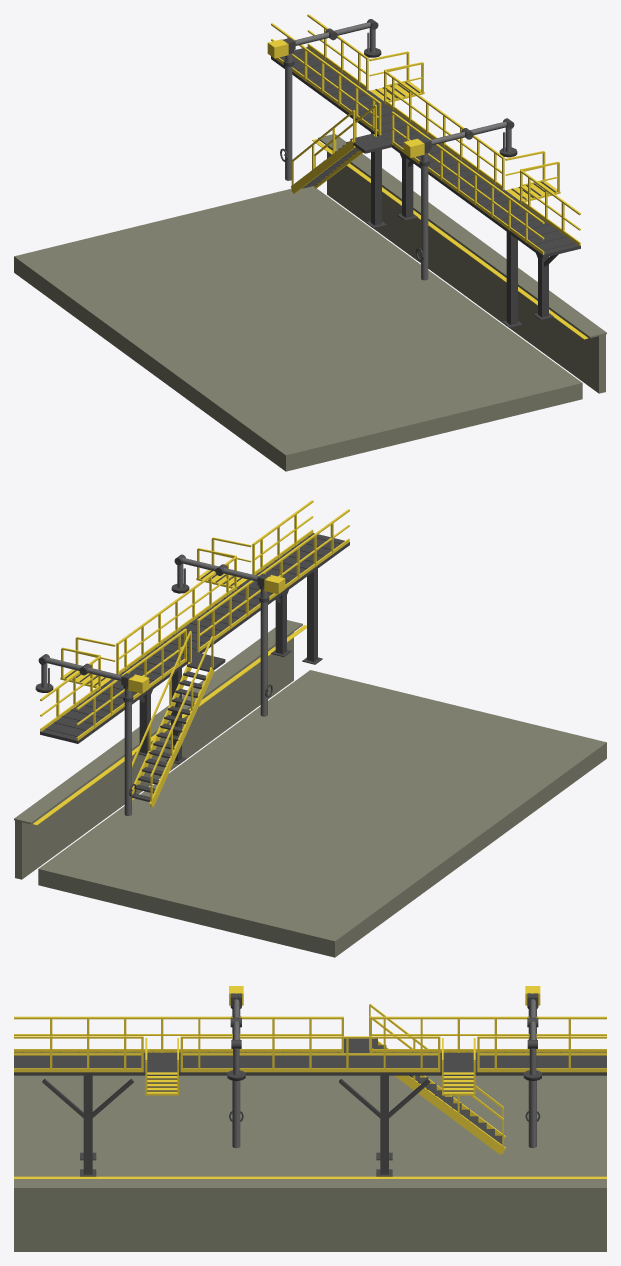
File: platform_close.fbx
3 views of the same model, one above another, from view 1: azimuth 30°, elevation 25°; view 2: azimuth 150°, elevation 25°; view 3: azimuth 270°, elevation 25° (orthographic). The views are drawn at different scales.
Parts seen in each view (by area): view 1: p465_platform_close; view 2: p465_platform_close; view 3: p465_platform_close.
Boxes of the visible parts, left/top/right/bottom form: p465_platform_close: left=14, top=14, right=606, bottom=471; p465_platform_close: left=14, top=500, right=606, bottom=957; p465_platform_close: left=14, top=986, right=606, bottom=1251.
Size of the model in its own units: 11.38 by 6.43 by 16.
